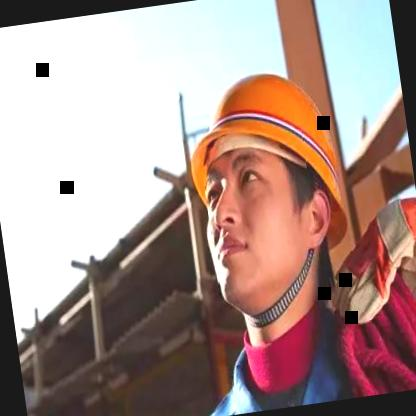helmet: (160, 23, 374, 333)
